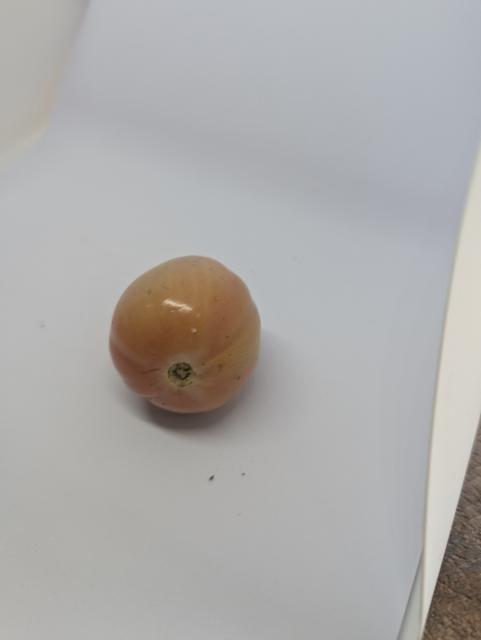turning: (105, 242, 272, 426)
